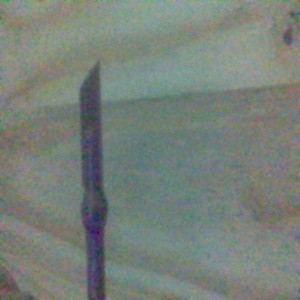cutter: (77, 59, 109, 300)
